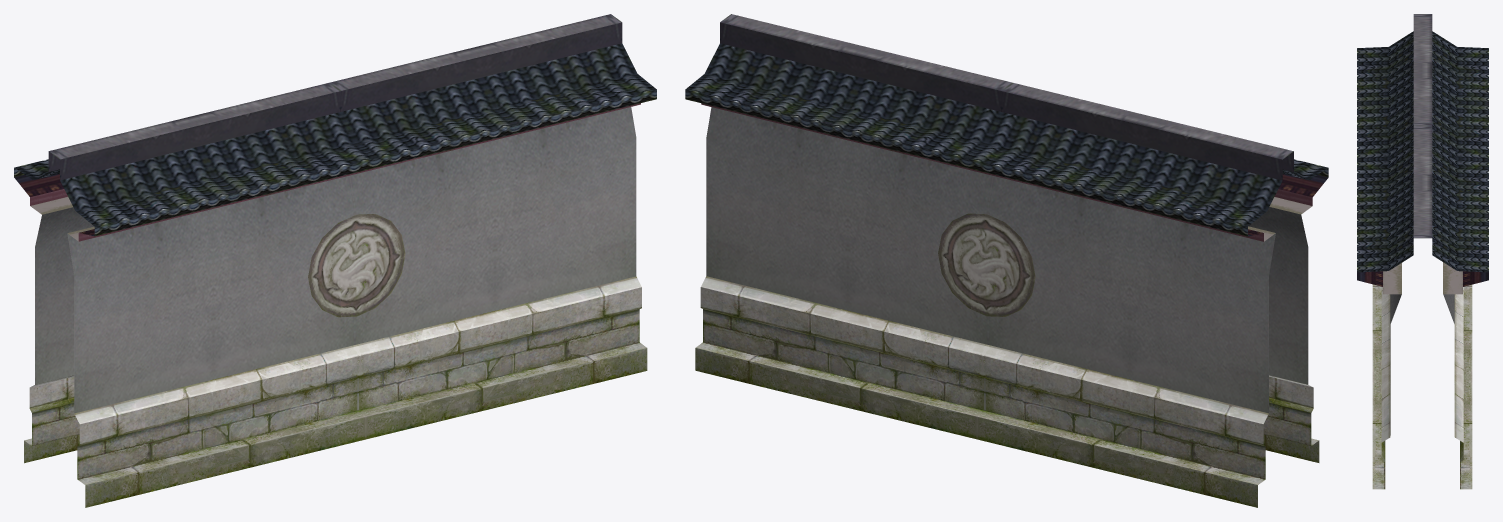
Rendered from QYS_Wall_A_01_03.FBX.
The picture shows the model from 3 angles, left to right: view 1: azimuth 30°, elevation 25°; view 2: azimuth 150°, elevation 25°; view 3: azimuth 270°, elevation 25°; orthographic projection. The views are drawn at different scales.
Parts seen in each view (by area): view 1: QYS_Wall_A_01_04, QYS_Wall_A_01_05; view 2: QYS_Wall_A_01_04, QYS_Wall_A_01_05; view 3: QYS_Wall_A_01_04, QYS_Wall_A_01_05.
Boxes of the visible parts, box(x1,y1,x2,y2) form: QYS_Wall_A_01_04: box(14, 14, 656, 413); QYS_Wall_A_01_05: box(24, 103, 647, 507); QYS_Wall_A_01_04: box(685, 14, 1328, 413); QYS_Wall_A_01_05: box(695, 103, 1319, 507); QYS_Wall_A_01_04: box(1357, 14, 1488, 435); QYS_Wall_A_01_05: box(1372, 262, 1472, 489).
Bounding box in the file's own units: 1425 × 800 × 355.
